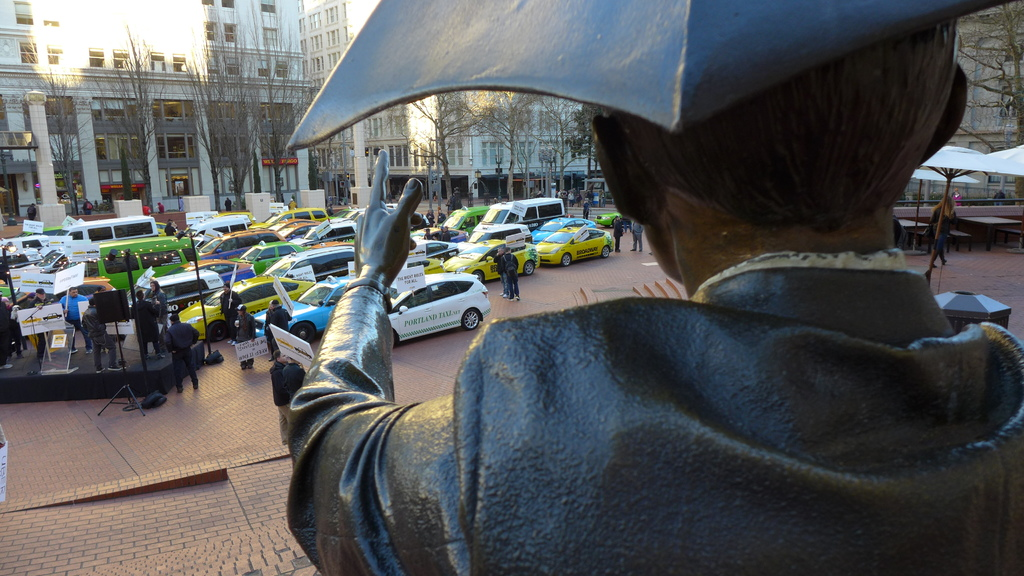Car: (0, 193, 614, 348), (598, 213, 627, 225)
